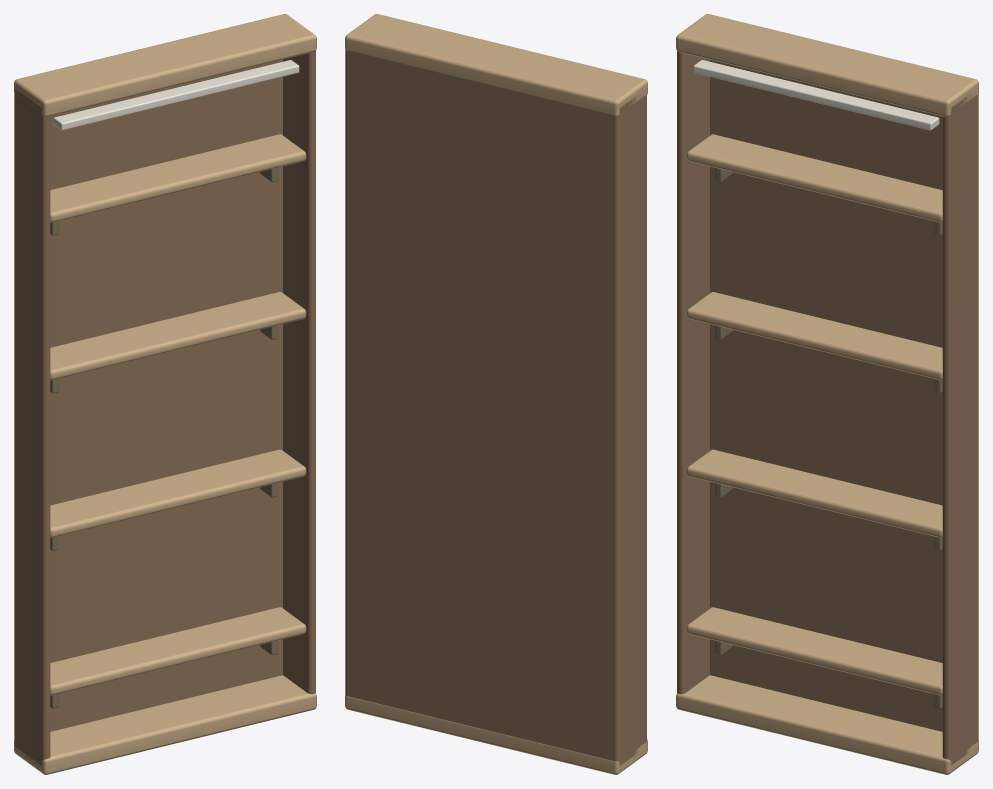
The model's file is wall_shoes_narrow.glb.
The picture shows the model from 3 angles, left to right: view 1: azimuth 30°, elevation 25°; view 2: azimuth 150°, elevation 25°; view 3: azimuth 330°, elevation 25°; orthographic projection.
Visible parts, largest first — view 1: Closed back, seated against existing opaque boundary, Outer stile, Outer stile.001, Bottom / crown.001, Bottom / crown, Load-bearing shelf.001, Load-bearing shelf.003, Load-bearing shelf, Load-bearing shelf.002, Integrated light diffuser; view 2: Closed back, seated against existing opaque boundary, Outer stile, Bottom / crown.001, Bottom / crown; view 3: Closed back, seated against existing opaque boundary, Outer stile.001, Outer stile, Bottom / crown.001, Bottom / crown, Load-bearing shelf.001, Load-bearing shelf.003, Load-bearing shelf, Load-bearing shelf.002, Integrated light diffuser.
Boxes of the visible parts, bbox=[...] form: Closed back, seated against existing opaque boundary: bbox=[14, 59, 282, 745]; Outer stile: bbox=[15, 89, 50, 765]; Outer stile.001: bbox=[283, 51, 315, 694]; Bottom / crown.001: bbox=[14, 14, 316, 116]; Bottom / crown: bbox=[14, 675, 316, 774]; Load-bearing shelf.001: bbox=[50, 449, 306, 537]; Load-bearing shelf.003: bbox=[50, 134, 306, 222]; Load-bearing shelf: bbox=[50, 607, 306, 695]; Load-bearing shelf.002: bbox=[50, 292, 306, 380]; Integrated light diffuser: bbox=[53, 60, 299, 130]; Closed back, seated against existing opaque boundary: bbox=[345, 49, 620, 765]; Outer stile: bbox=[620, 91, 646, 765]; Bottom / crown.001: bbox=[345, 14, 647, 115]; Bottom / crown: bbox=[345, 695, 647, 774]; Closed back, seated against existing opaque boundary: bbox=[710, 59, 978, 741]; Outer stile.001: bbox=[942, 91, 977, 765]; Outer stile: bbox=[677, 51, 709, 694]; Bottom / crown.001: bbox=[676, 14, 978, 116]; Bottom / crown: bbox=[676, 675, 978, 774]; Load-bearing shelf.001: bbox=[686, 449, 942, 537]; Load-bearing shelf.003: bbox=[686, 134, 942, 222]; Load-bearing shelf: bbox=[686, 607, 942, 695]; Load-bearing shelf.002: bbox=[686, 292, 942, 380]; Integrated light diffuser: bbox=[693, 60, 939, 130].
Size of the model in its own units: 1 by 2.36 by 0.2.
